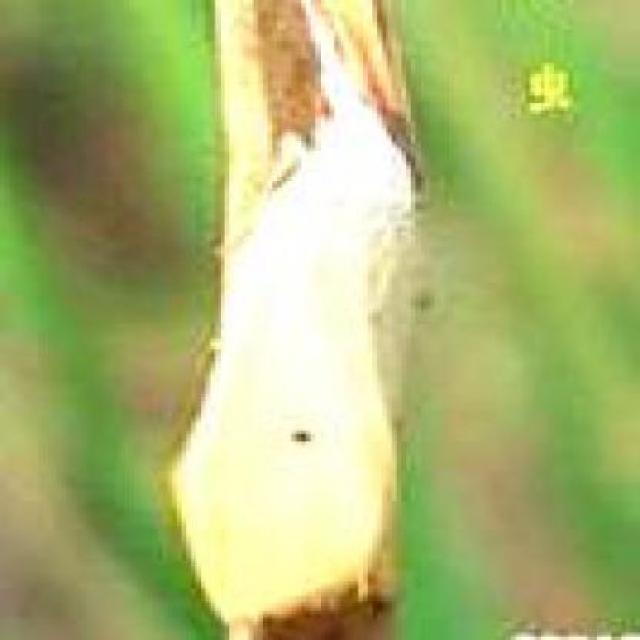stem-borer: (168, 0, 426, 640)
